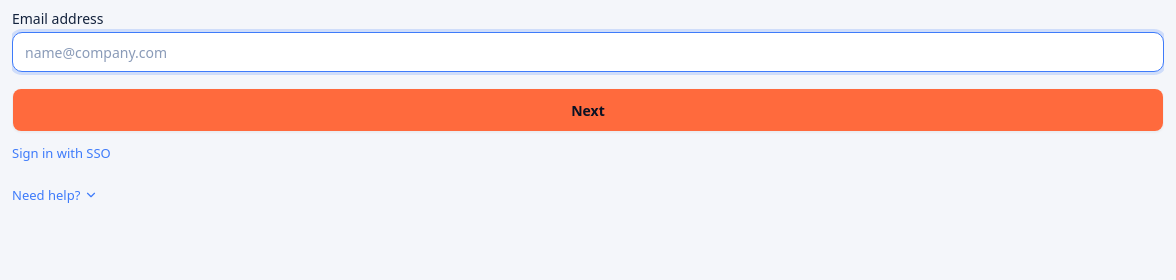
it: sign-in with SSO › no SSO for other domains; "Sign in with SSO" takes an organisation ID
Click the button "Sign in with SSO": click(61, 154) [12,144,111,164]
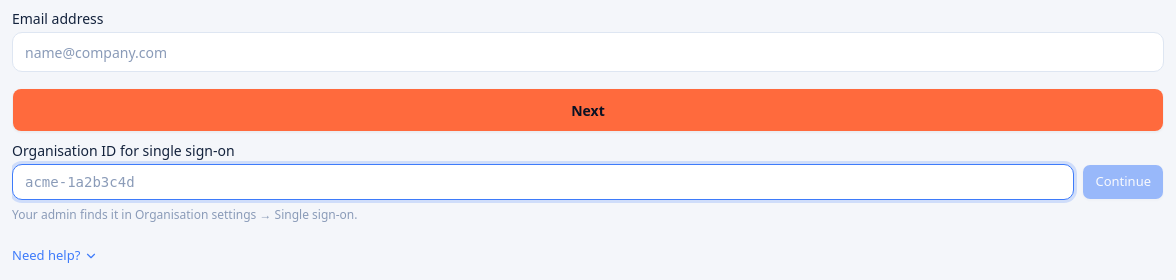
In the field labelled "Organisation ID for single sign-on": (543, 182) [12,164,1074,200], type " Acme-1 "
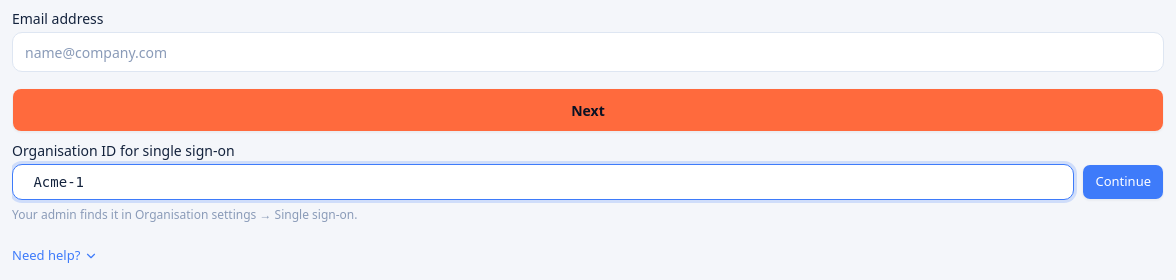
Click the button "Continue": click(1123, 182) [1082,164,1164,200]
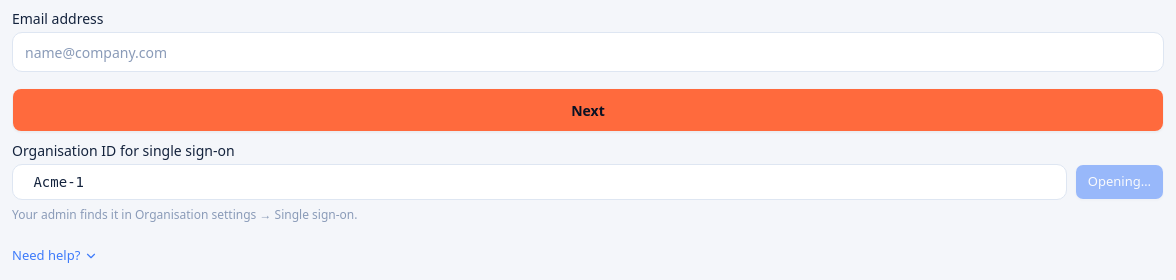
In the field labelled "Email address": (588, 52) [12,32,1164,72], type "bob@gmail.test"
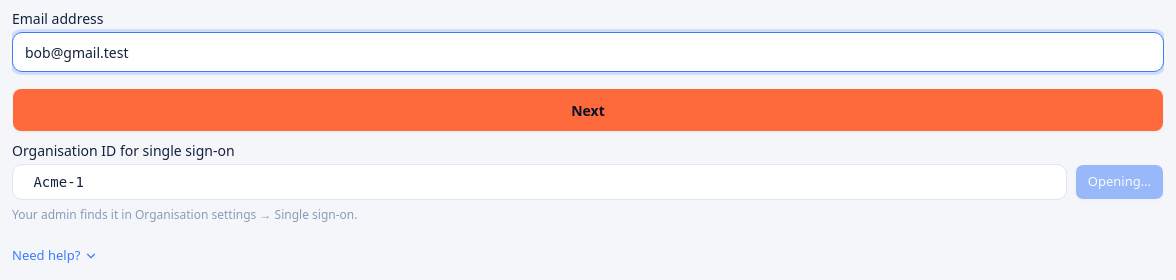
Click the button "Next": click(588, 110) [12,88,1164,132]
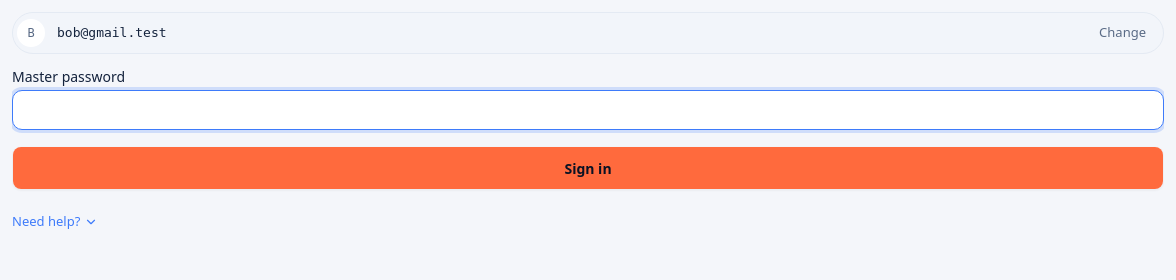
Expected: the password field labelled "Master password" is shown, [12,90,1164,130]
Expected: the label "single sign-on" is gone
